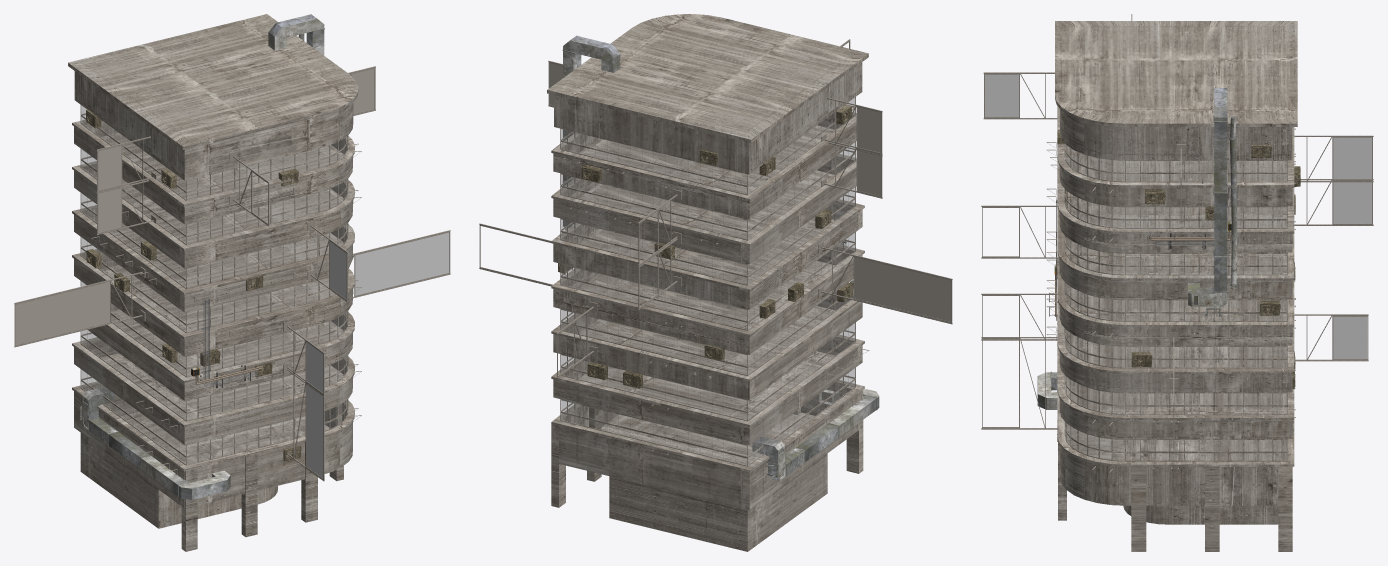
File: landingpagebuildings.glb
3 renders of one model, left to right at view 1: azimuth 30°, elevation 25°; view 2: azimuth 150°, elevation 25°; view 3: azimuth 270°, elevation 25°, orthographic. The views are drawn at different scales.
Visible parts, largest first — view 1: Building, Window, Vents, artwork_apot_M, artwork_apot_K, AC, artwork_apot_C, Wire, artwork_apot_O, artwork_apot_N, artwork_apot_L, artwork_apot_D (+1 smaller); view 2: Building, Window, Vents, artwork_apot_M, AC, artwork_apot_O, artwork_apot_N; view 3: Building, Window, Vents, AC, artwork_apot_H, artwork_apot_J, artwork_apot_E, artwork_apot_I, Wire.
Part boxes in pixels (<box>): Building: <box>14,14,450,551</box>; Window: <box>81,106,346,464</box>; Vents: <box>80,14,324,500</box>; artwork_apot_M: <box>15,282,109,344</box>; artwork_apot_K: <box>355,232,449,295</box>; AC: <box>86,109,301,461</box>; artwork_apot_C: <box>306,385,323,478</box>; Wire: <box>191,297,262,388</box>; artwork_apot_O: <box>98,146,121,190</box>; artwork_apot_N: <box>98,188,121,232</box>; artwork_apot_L: <box>352,68,374,113</box>; artwork_apot_D: <box>330,242,346,299</box>; Building: <box>479,14,952,551</box>; Window: <box>561,98,854,464</box>; Vents: <box>562,35,879,480</box>; artwork_apot_M: <box>854,257,951,321</box>; AC: <box>558,104,852,388</box>; artwork_apot_O: <box>857,107,881,152</box>; artwork_apot_N: <box>857,150,881,196</box>; Building: <box>981,14,1373,551</box>; Window: <box>1065,145,1286,460</box>; Vents: <box>1037,88,1238,409</box>; AC: <box>1056,129,1300,441</box>; artwork_apot_H: <box>1333,137,1371,178</box>; artwork_apot_J: <box>1333,182,1371,223</box>; artwork_apot_E: <box>985,74,1018,116</box>; artwork_apot_I: <box>1333,316,1366,358</box>; Wire: <box>1049,156,1231,320</box>.
Size of the model in its own units: 1.97 by 1.8 by 1.41.
Materials: 5 (4 with a texture image).
